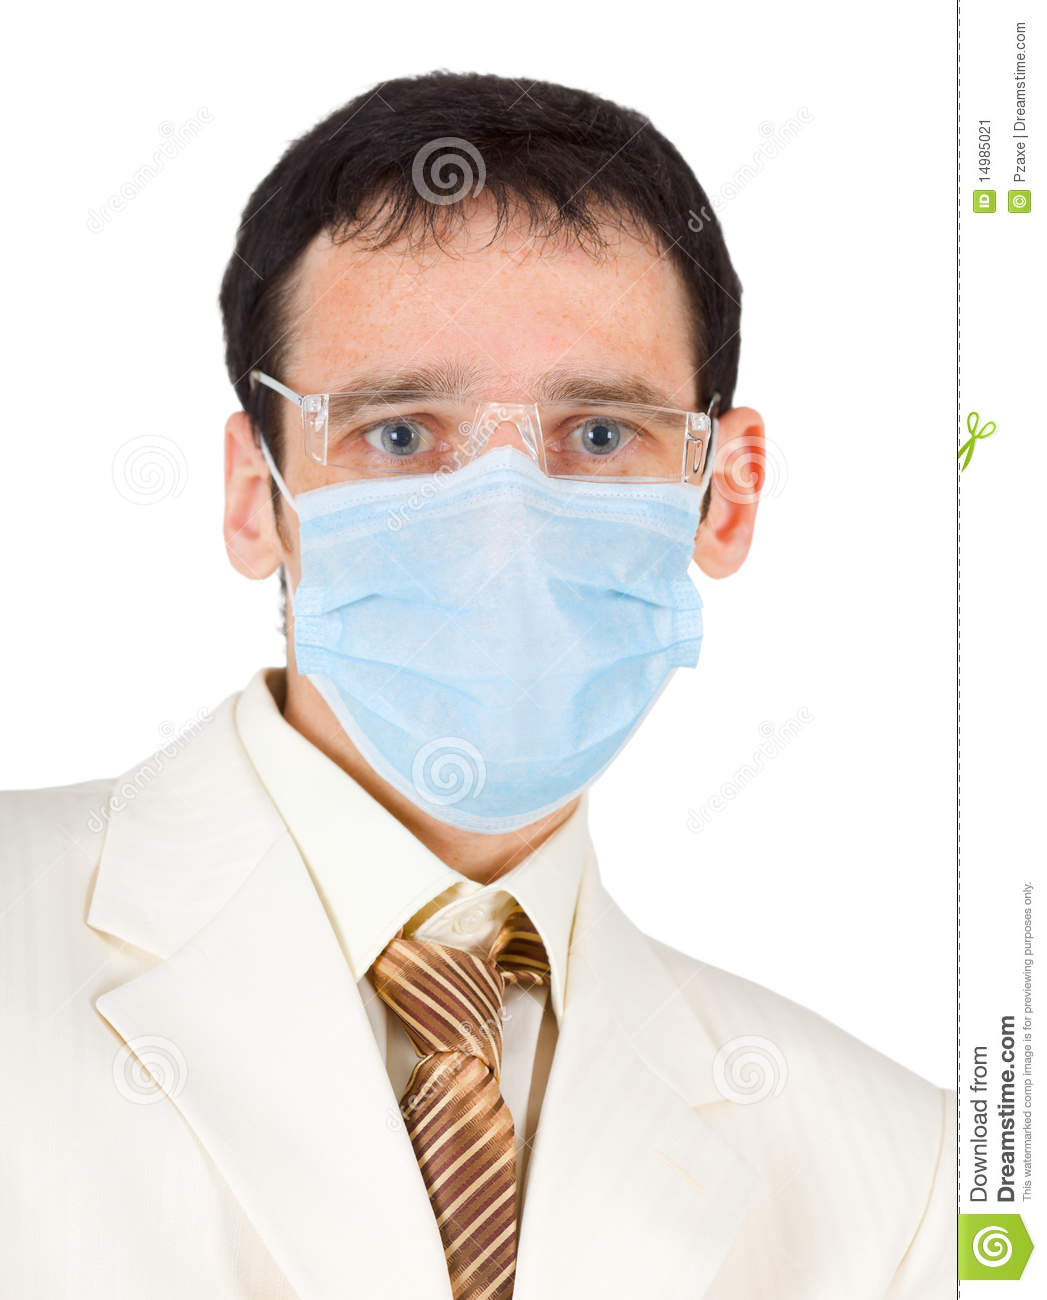mask: (297, 467, 723, 851)
